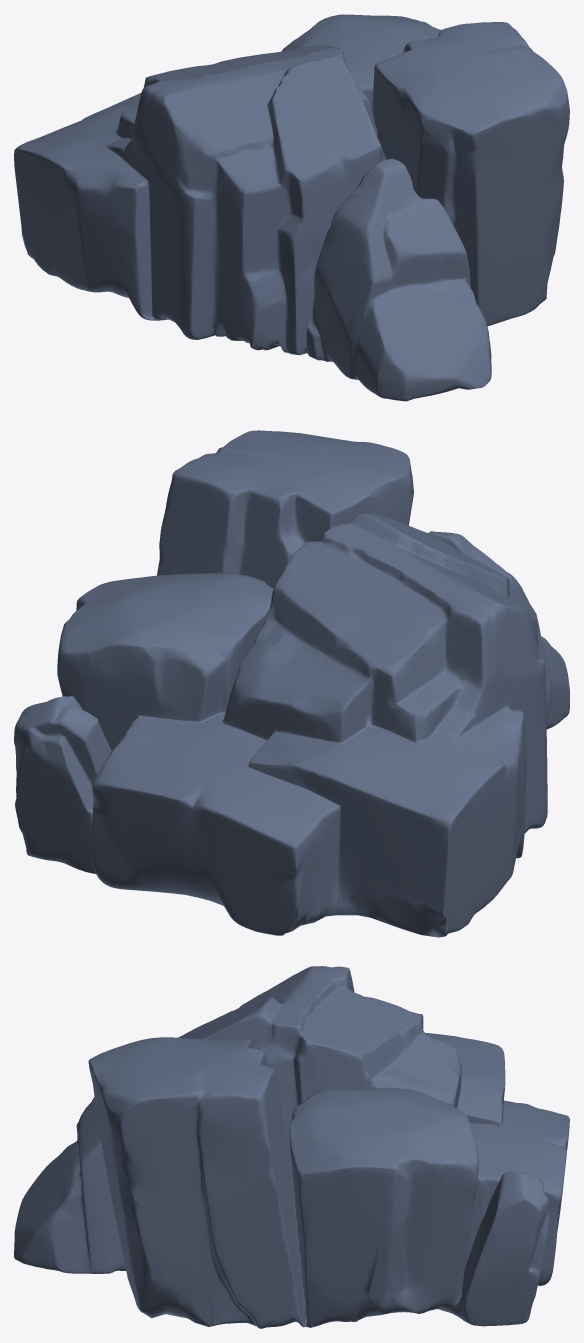
The picture shows the model from 3 angles, top to bottom: view 1: azimuth 30°, elevation 25°; view 2: azimuth 150°, elevation 25°; view 3: azimuth 270°, elevation 25°; orthographic projection. The views are drawn at different scales.
Parts seen in each view (by area): view 1: SM_GF_Cliff_Bottom_02_LOD0; view 2: SM_GF_Cliff_Bottom_02_LOD0; view 3: SM_GF_Cliff_Bottom_02_LOD0.
Part boxes in pixels (bbox=[...]): SM_GF_Cliff_Bottom_02_LOD0: bbox=[14, 14, 569, 401]; SM_GF_Cliff_Bottom_02_LOD0: bbox=[14, 430, 569, 937]; SM_GF_Cliff_Bottom_02_LOD0: bbox=[14, 966, 569, 1328].
Bounding box in the file's own units: 6.73 × 4.07 × 8.62.
